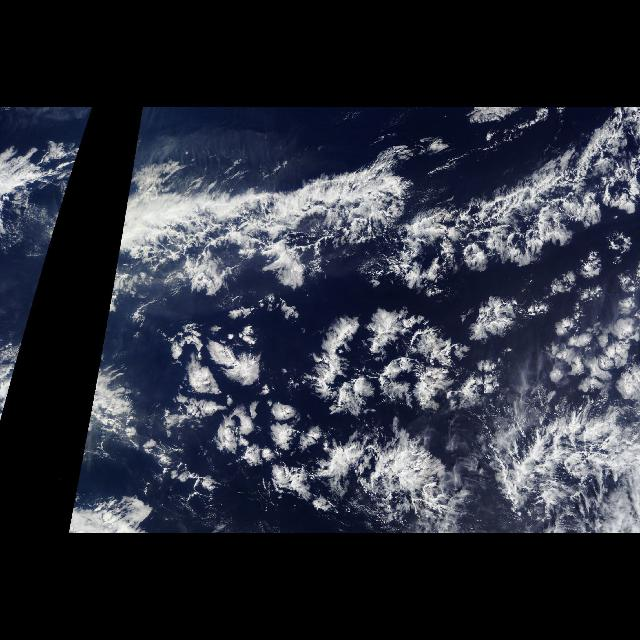Fish: (112, 107, 640, 317)
Flower: (77, 288, 639, 534)
